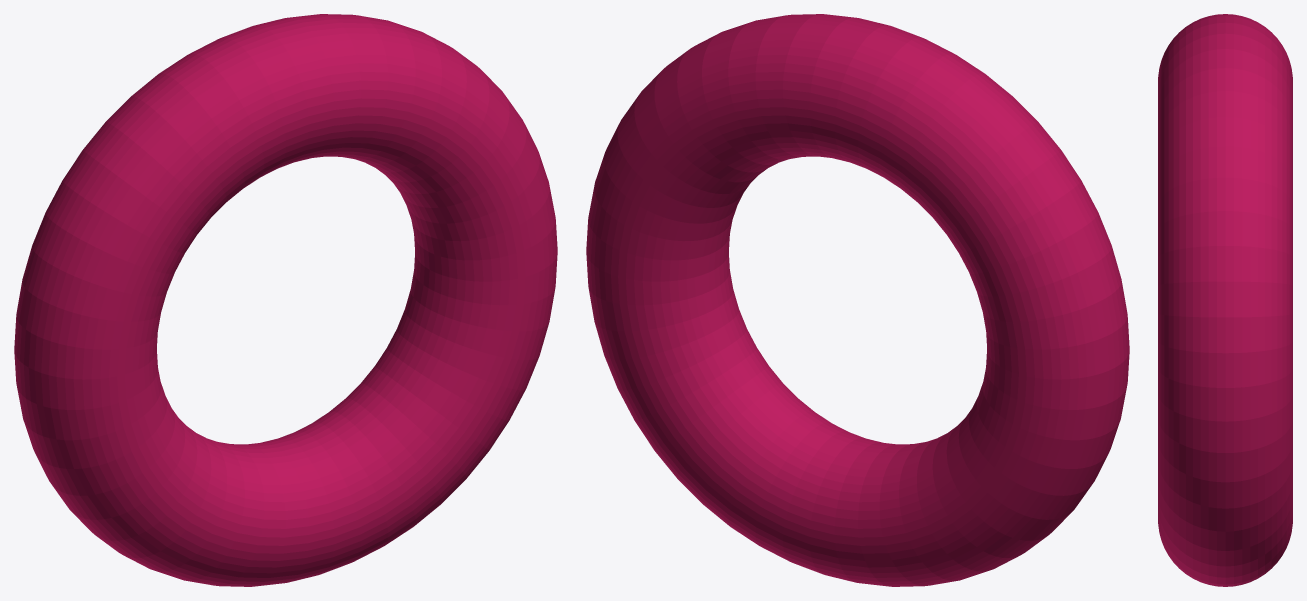
3 views of the same model, side by side, from view 1: azimuth 30°, elevation 25°; view 2: azimuth 150°, elevation 25°; view 3: azimuth 270°, elevation 25° (orthographic). The views are drawn at different scales.
Parts seen in each view (by area): view 1: world; view 2: world; view 3: world.
Part boxes in pixels (x1,y1,x2,y2): world: [14, 14, 557, 586]; world: [586, 14, 1129, 586]; world: [1158, 14, 1292, 586].
Bounding box in the file's own units: 32.27 × 32.2 × 7.59.
